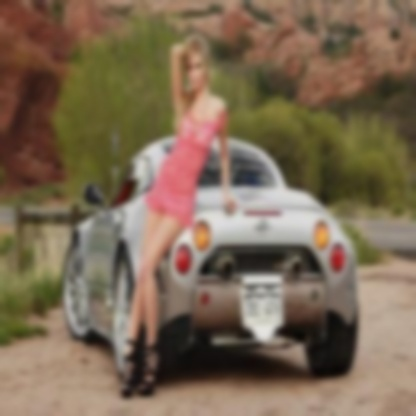Vehicle: (62, 131, 360, 398)
